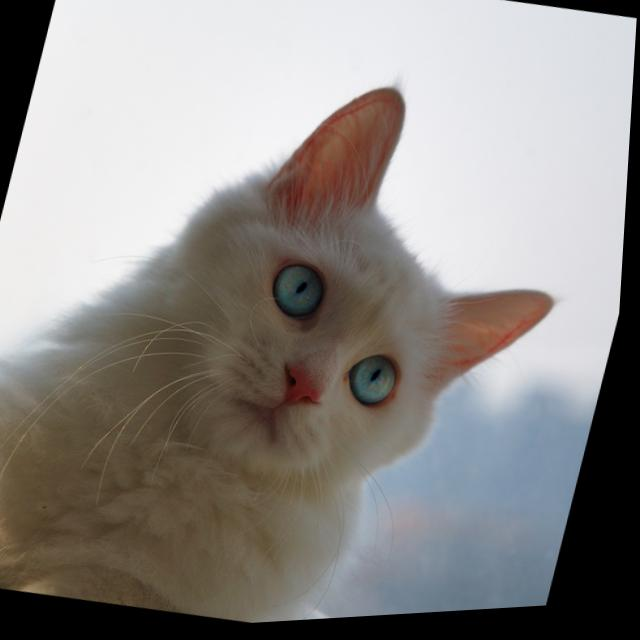animals: (216, 62, 603, 453)
